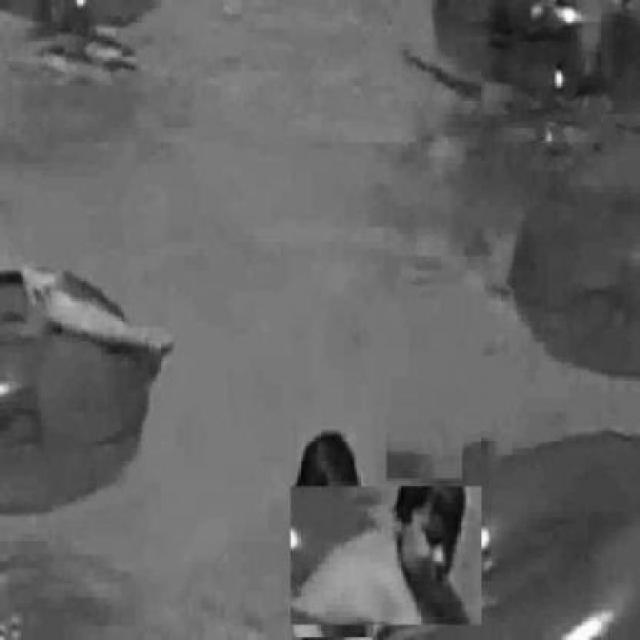drowning: (294, 490, 478, 624), (396, 384, 490, 458)
